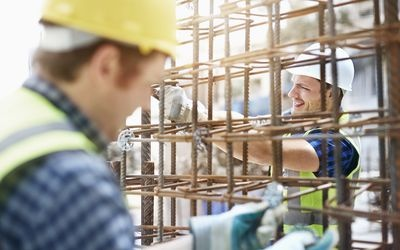white: (287, 41, 354, 115)
yellow: (39, 3, 177, 134)
